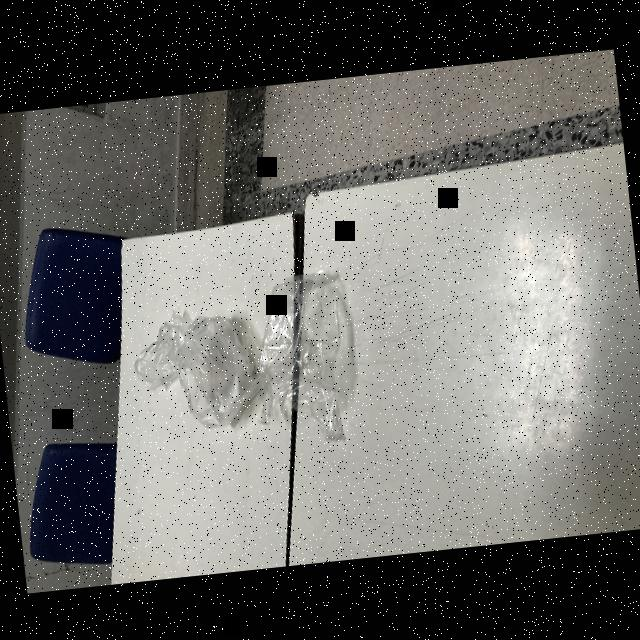plastic_bag: (250, 258, 368, 451), (169, 297, 269, 433), (121, 310, 190, 393)
